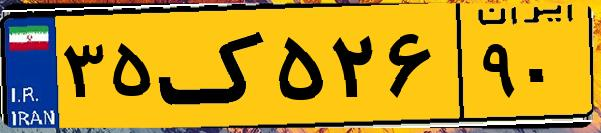0: (525, 38, 570, 115)
2: (330, 28, 385, 110)
3: (57, 26, 110, 100)
5: (270, 28, 330, 110), (110, 28, 158, 98)
6: (385, 28, 445, 110)
9: (475, 38, 525, 113)
ک: (158, 12, 270, 120)
